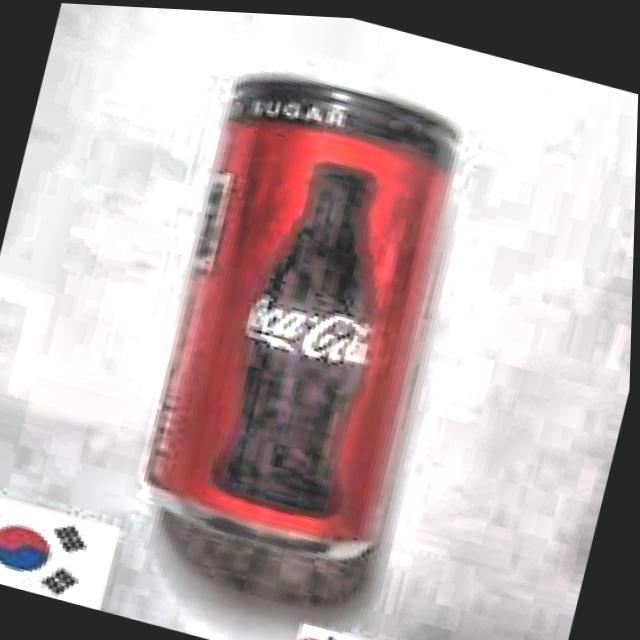Cans: (97, 23, 541, 607)
